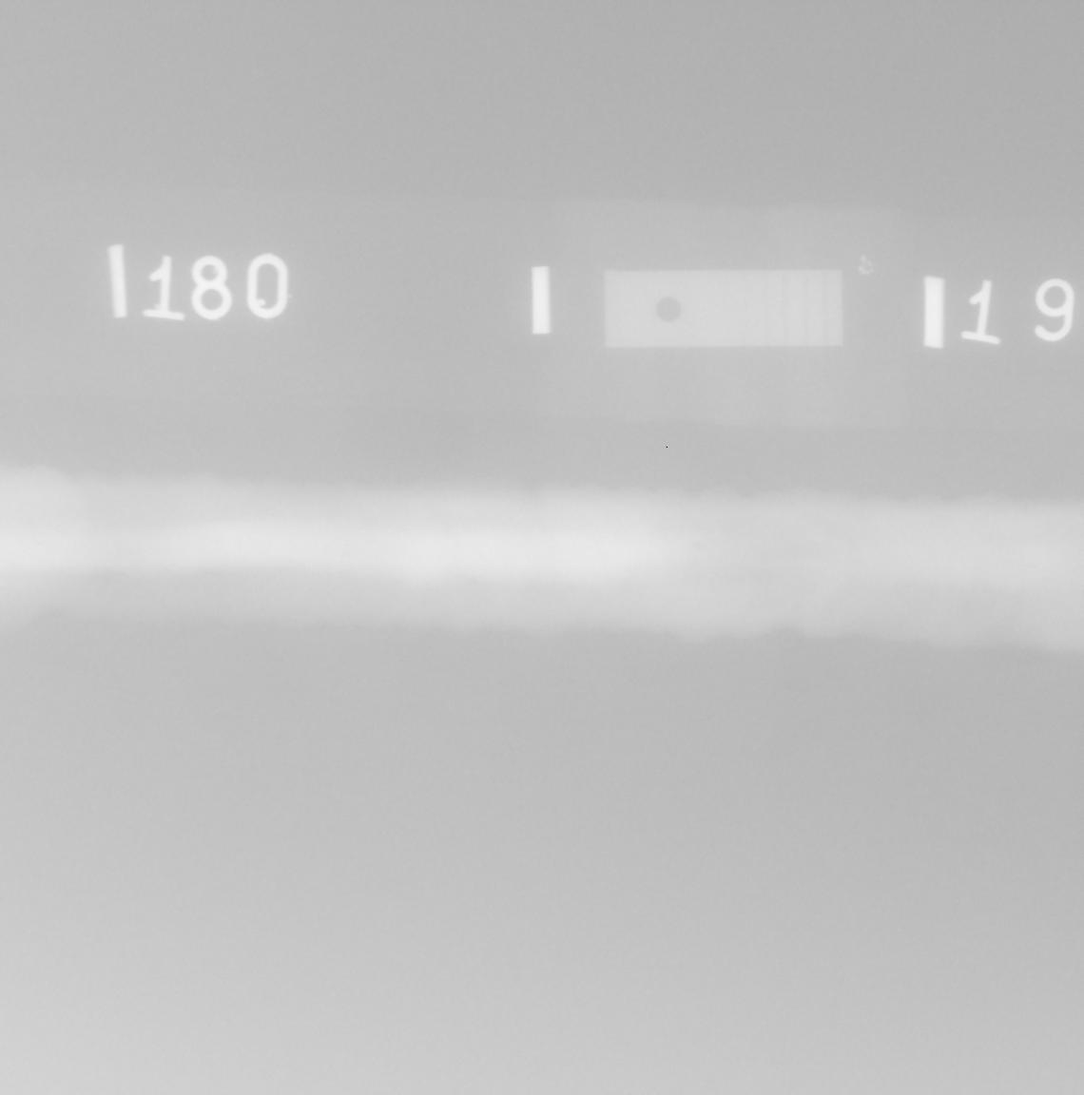Inclusion: (1021, 563, 1040, 568), (697, 542, 704, 551)
Pore/Porosity: (119, 572, 125, 578)
Reference Standard 1: (604, 269, 844, 348)
